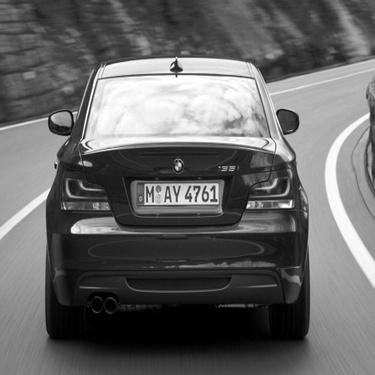car: (27, 50, 318, 347)
